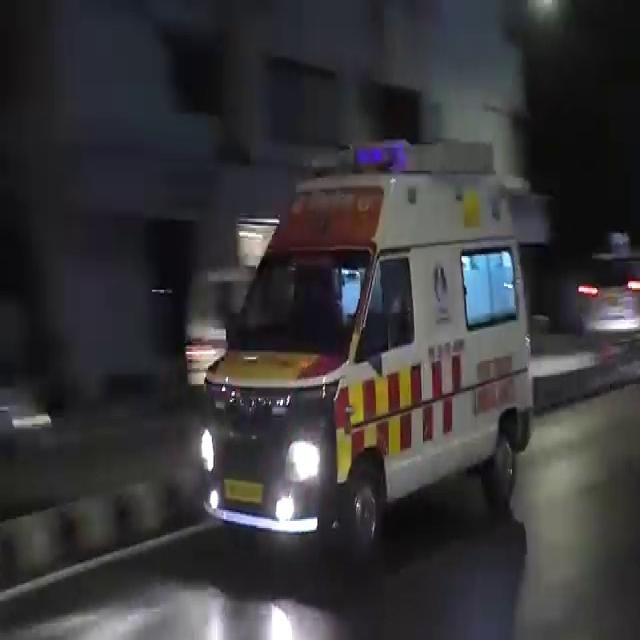ambulance: (220, 163, 560, 535)
